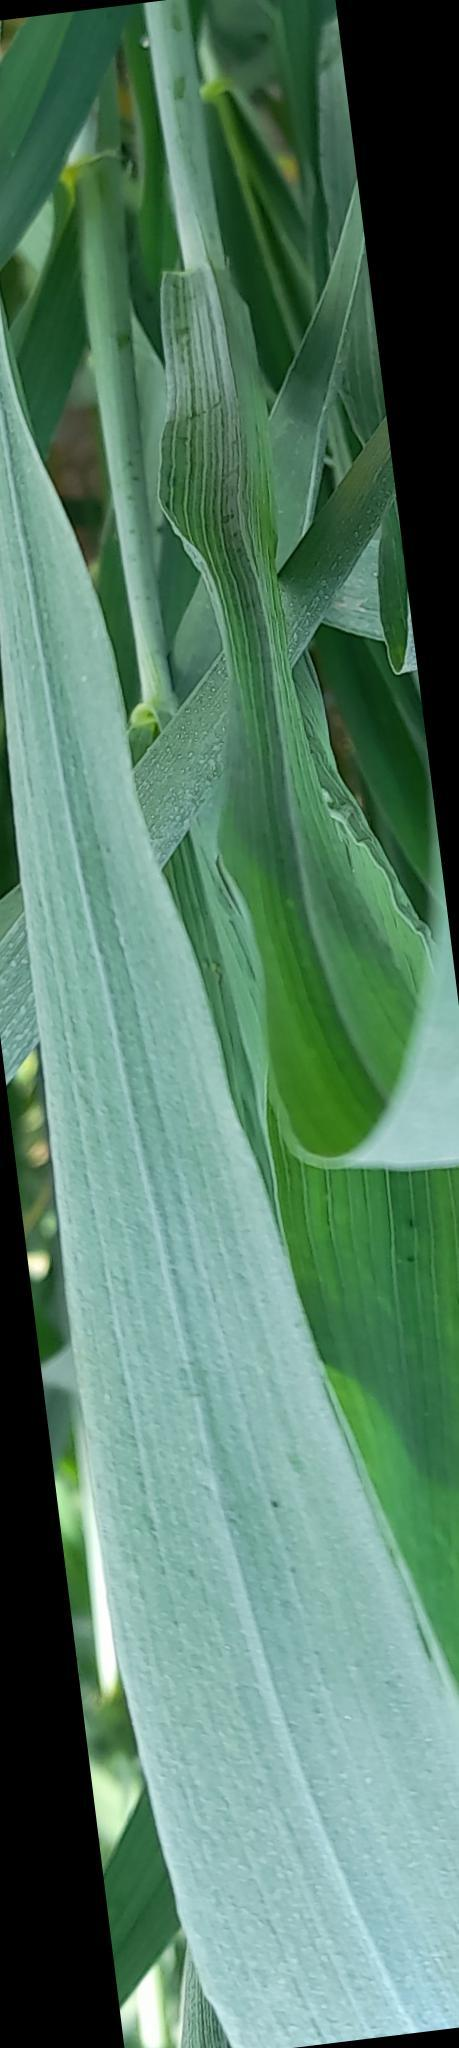Wheat: (0, 380, 459, 2048)
